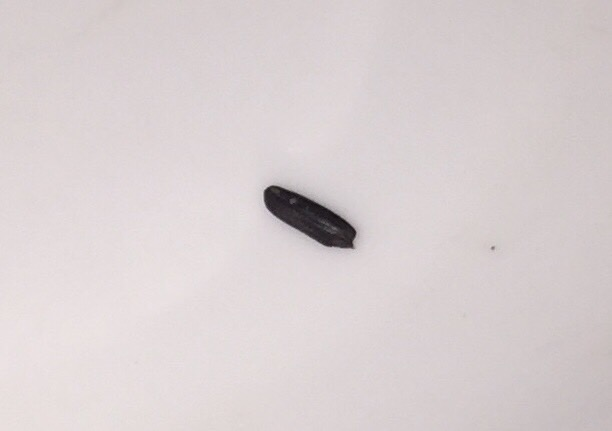Gao Nep Cam: (255, 174, 361, 258)
